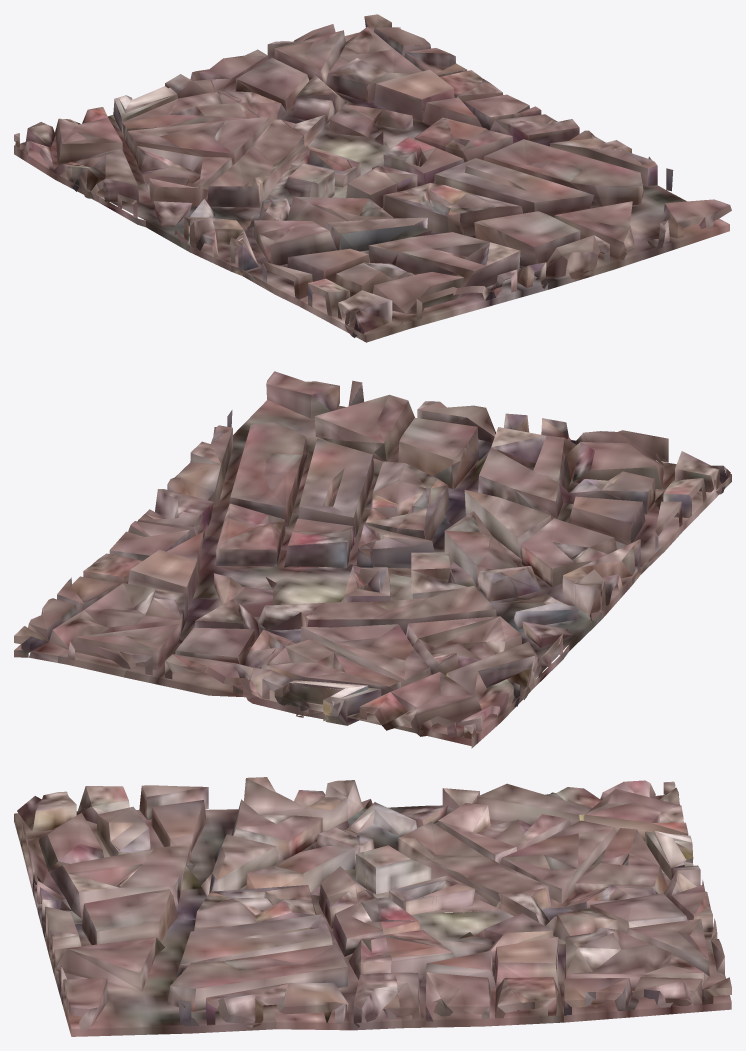
3 renders of one model, top to bottom at view 1: azimuth 30°, elevation 25°; view 2: azimuth 150°, elevation 25°; view 3: azimuth 270°, elevation 25°, orthographic. The views are drawn at different scales.
Visible parts, largest first — view 1: Mesh_0; view 2: Mesh_0; view 3: Mesh_0.
Part boxes in pixels (bbox=[...]): Mesh_0: bbox=[14, 14, 731, 342]; Mesh_0: bbox=[14, 371, 731, 748]; Mesh_0: bbox=[14, 777, 731, 1036].
Bounding box in the file's own units: 535 × 49.67 × 659.
Materials: 2 (2 with a texture image).
